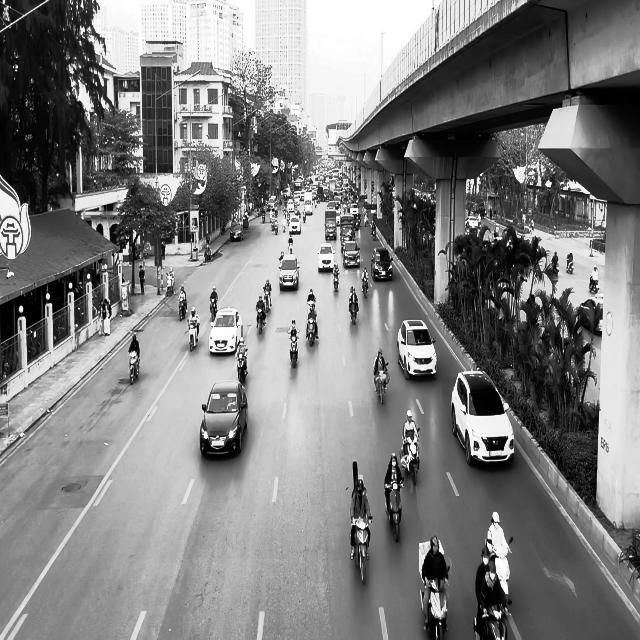car: (451, 369, 514, 466), (200, 380, 248, 457), (397, 318, 437, 380), (209, 307, 242, 355), (278, 254, 300, 290), (370, 246, 392, 281), (317, 242, 336, 272), (342, 241, 360, 267), (230, 222, 243, 240)
motorbike: (420, 557, 452, 639), (351, 517, 372, 584), (384, 479, 404, 542), (400, 426, 420, 485), (374, 363, 389, 404), (128, 348, 140, 384), (236, 352, 248, 384), (188, 319, 199, 352), (306, 315, 317, 346), (289, 333, 298, 368), (256, 307, 266, 334), (348, 299, 358, 324), (178, 296, 186, 321), (589, 274, 599, 294), (332, 268, 340, 291), (210, 299, 217, 324), (550, 256, 559, 274), (566, 256, 574, 274), (204, 245, 212, 262), (362, 278, 368, 297)
